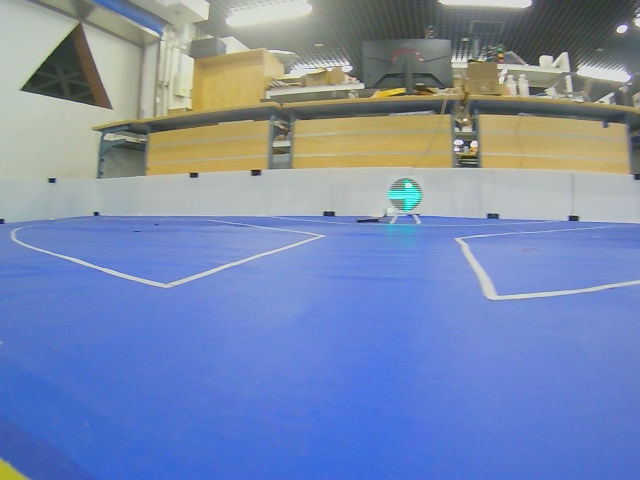right_green: (387, 178, 422, 216)
